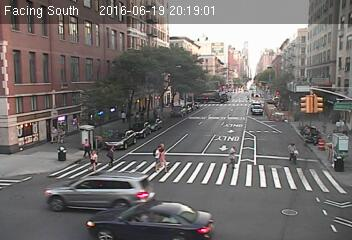neg: (278, 112, 297, 138), (243, 102, 261, 126), (123, 207, 140, 229), (23, 159, 38, 179), (162, 210, 177, 230), (179, 206, 193, 225), (55, 198, 69, 215), (266, 107, 278, 124), (23, 139, 35, 154), (139, 212, 147, 224), (33, 195, 37, 200)
pos: (219, 139, 245, 174), (281, 139, 301, 166), (85, 150, 102, 173), (105, 145, 120, 166), (78, 137, 93, 157)
